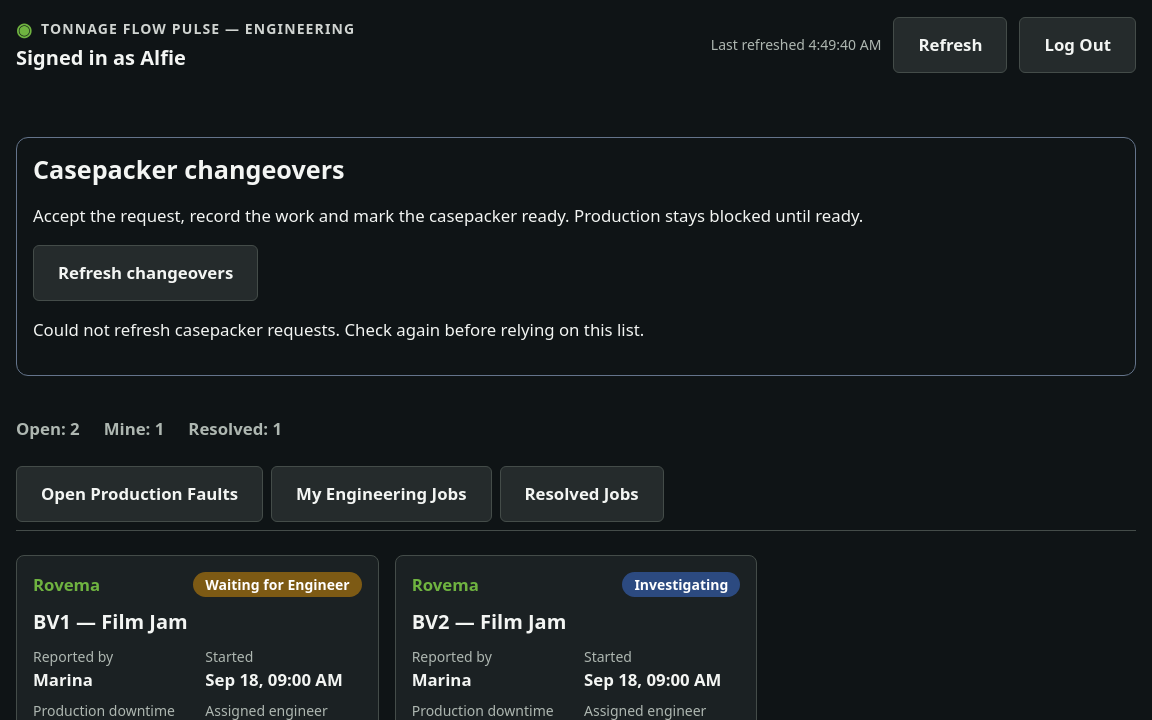
Engineering fault loading › renders three sections and filters correctly between them
Expected: the heading "BV1 — Film Jam" is shown, [33,608,188,635]
Expected: the heading "BV2 — Film Jam" is shown, [412,608,566,635]
Click the button "My Engineering Jobs" at (381, 494), box [271,466,492,522]
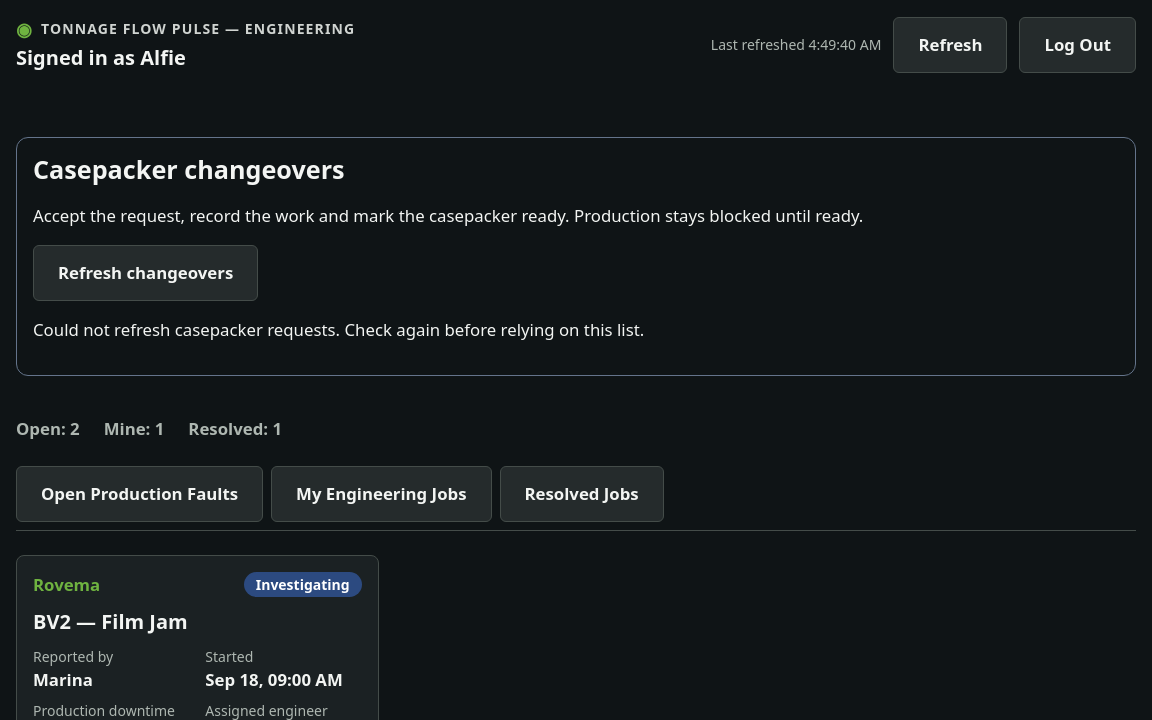
Expected: the heading "BV2 — Film Jam" is shown, [33,608,188,635]
Expected: the button "BV1 — Film Jam" is gone
Click the button "Resolved Jobs" at (582, 494), box [500,466,664,522]
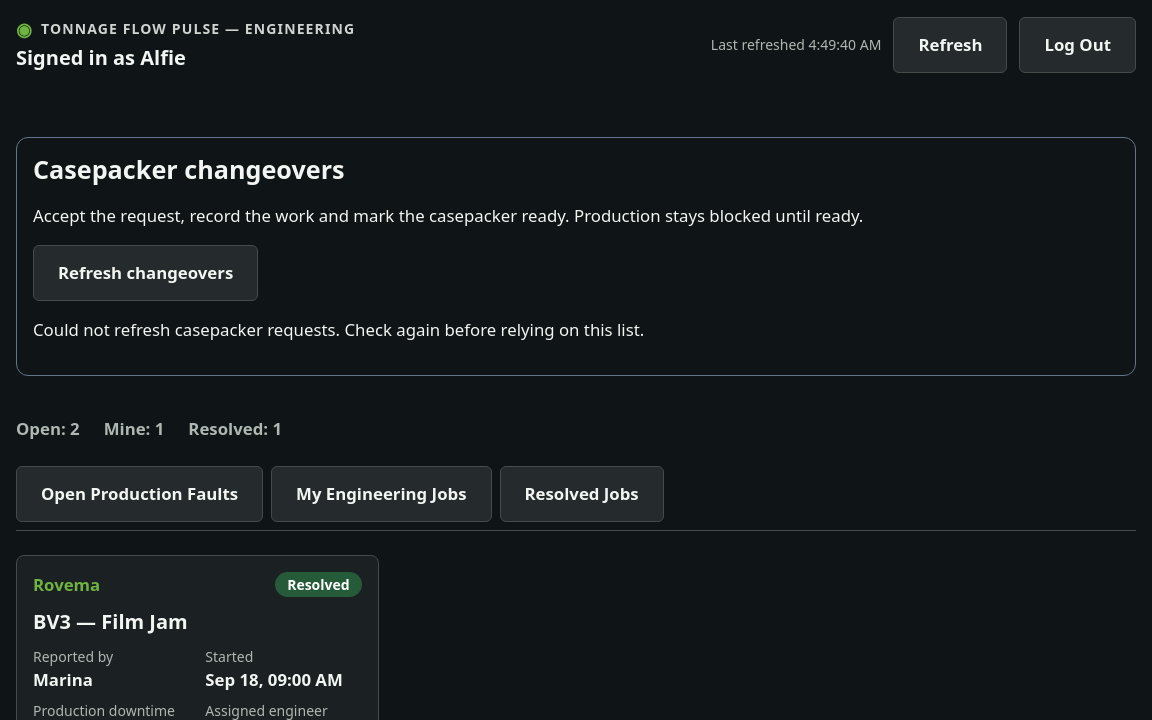
Expected: the button "BV2 — Film Jam" is gone
Expected: the heading "BV3 — Film Jam" is shown, [33,608,188,635]
